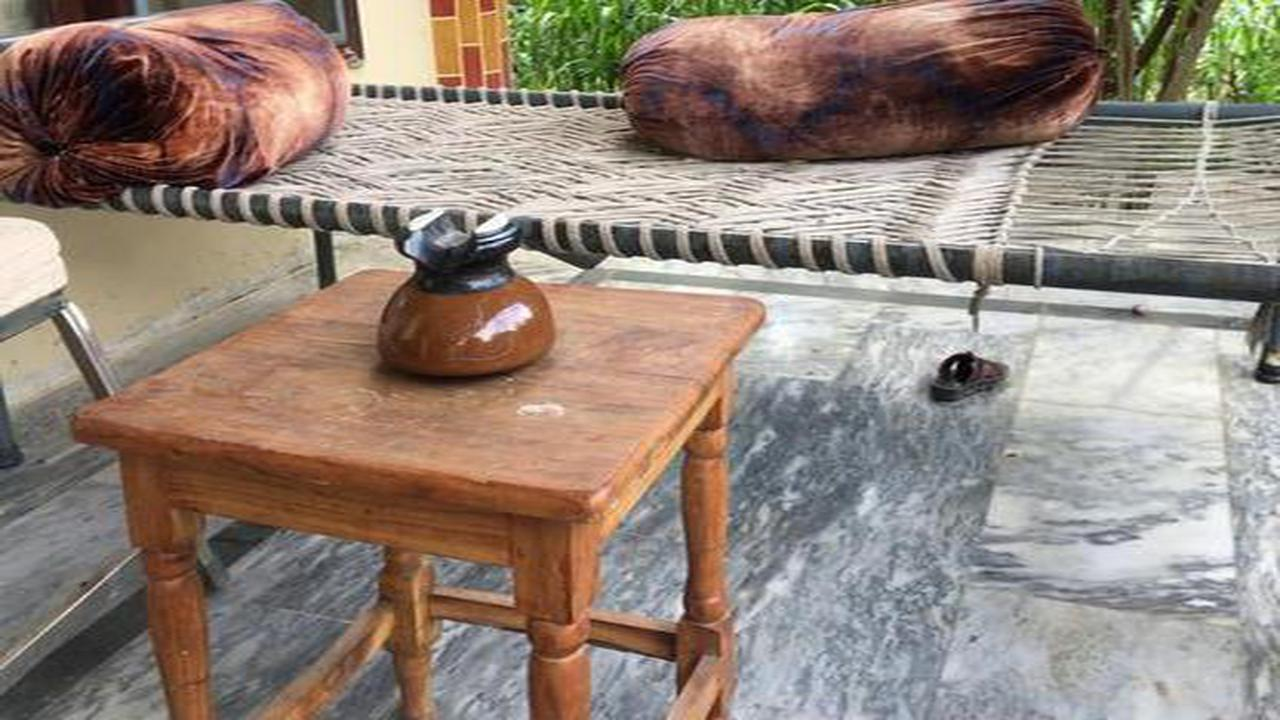insulator_pin: (364, 193, 573, 392)
